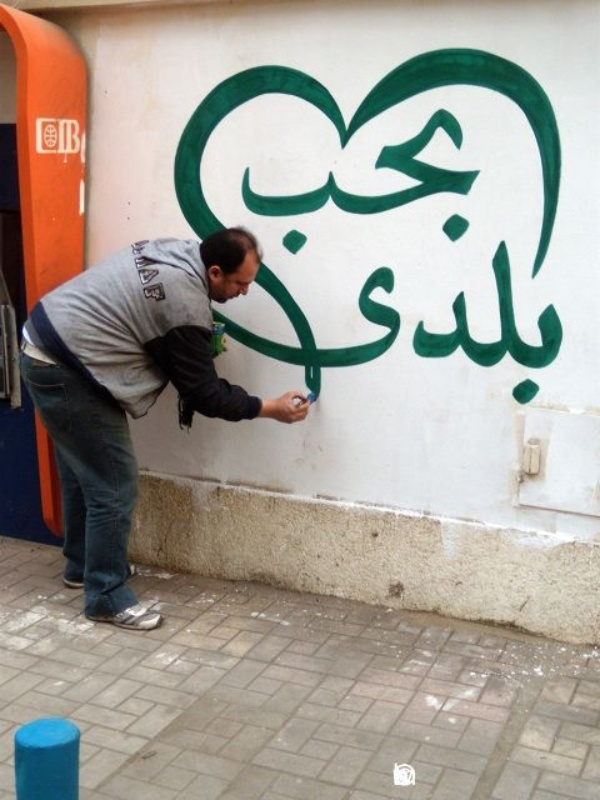text: (209, 239, 224, 408), (225, 239, 240, 408), (241, 239, 256, 408), (257, 239, 272, 408), (273, 239, 288, 408), (289, 239, 304, 408), (305, 239, 320, 408), (321, 239, 336, 408), (337, 239, 352, 408), (353, 239, 368, 408), (369, 239, 384, 408), (385, 239, 400, 408), (401, 239, 416, 408), (417, 239, 432, 408), (433, 239, 448, 408), (449, 239, 464, 408), (465, 239, 480, 408), (481, 239, 496, 408), (497, 239, 512, 408), (513, 239, 528, 408), (529, 239, 544, 408), (545, 239, 560, 408), (465, 108, 481, 258), (257, 108, 272, 258), (273, 108, 288, 258), (289, 108, 304, 258), (305, 108, 320, 258), (321, 108, 336, 258), (337, 108, 352, 258), (353, 108, 368, 258), (369, 108, 384, 258), (385, 108, 400, 258), (401, 108, 416, 258), (417, 108, 432, 258), (433, 108, 448, 258), (449, 108, 464, 258), (243, 108, 256, 258), (561, 239, 571, 408), (202, 239, 208, 408), (65, 112, 80, 156), (57, 112, 64, 156), (81, 112, 84, 156)
